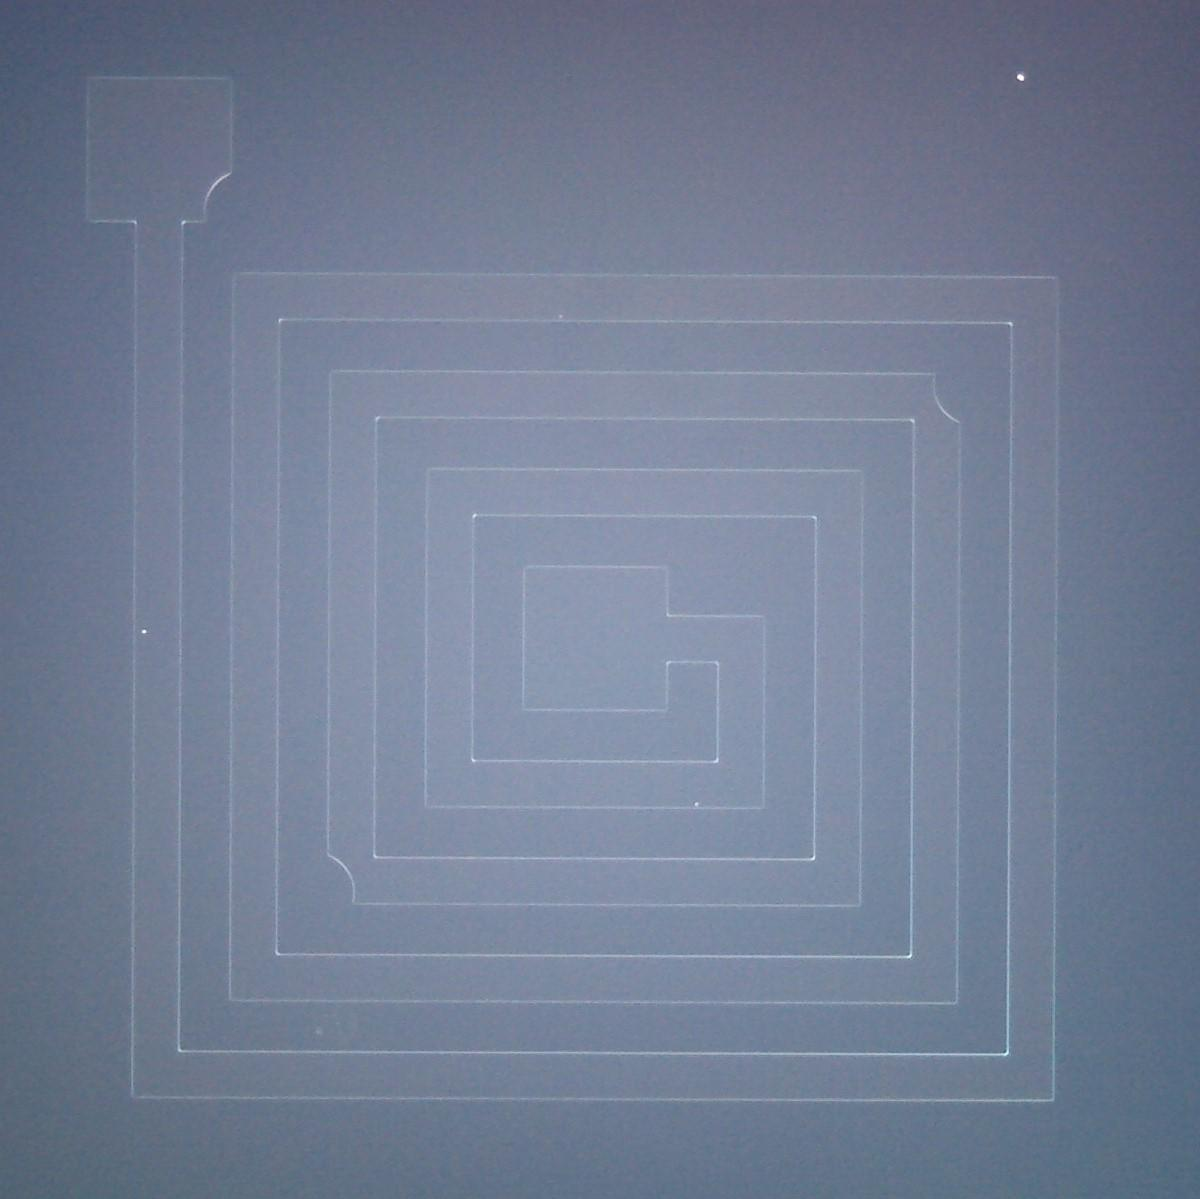cut: (157, 150, 267, 240), (886, 354, 980, 457), (305, 825, 399, 920)
s_point: (1011, 68, 1031, 87), (551, 307, 570, 324), (135, 624, 153, 640), (687, 797, 706, 813)
